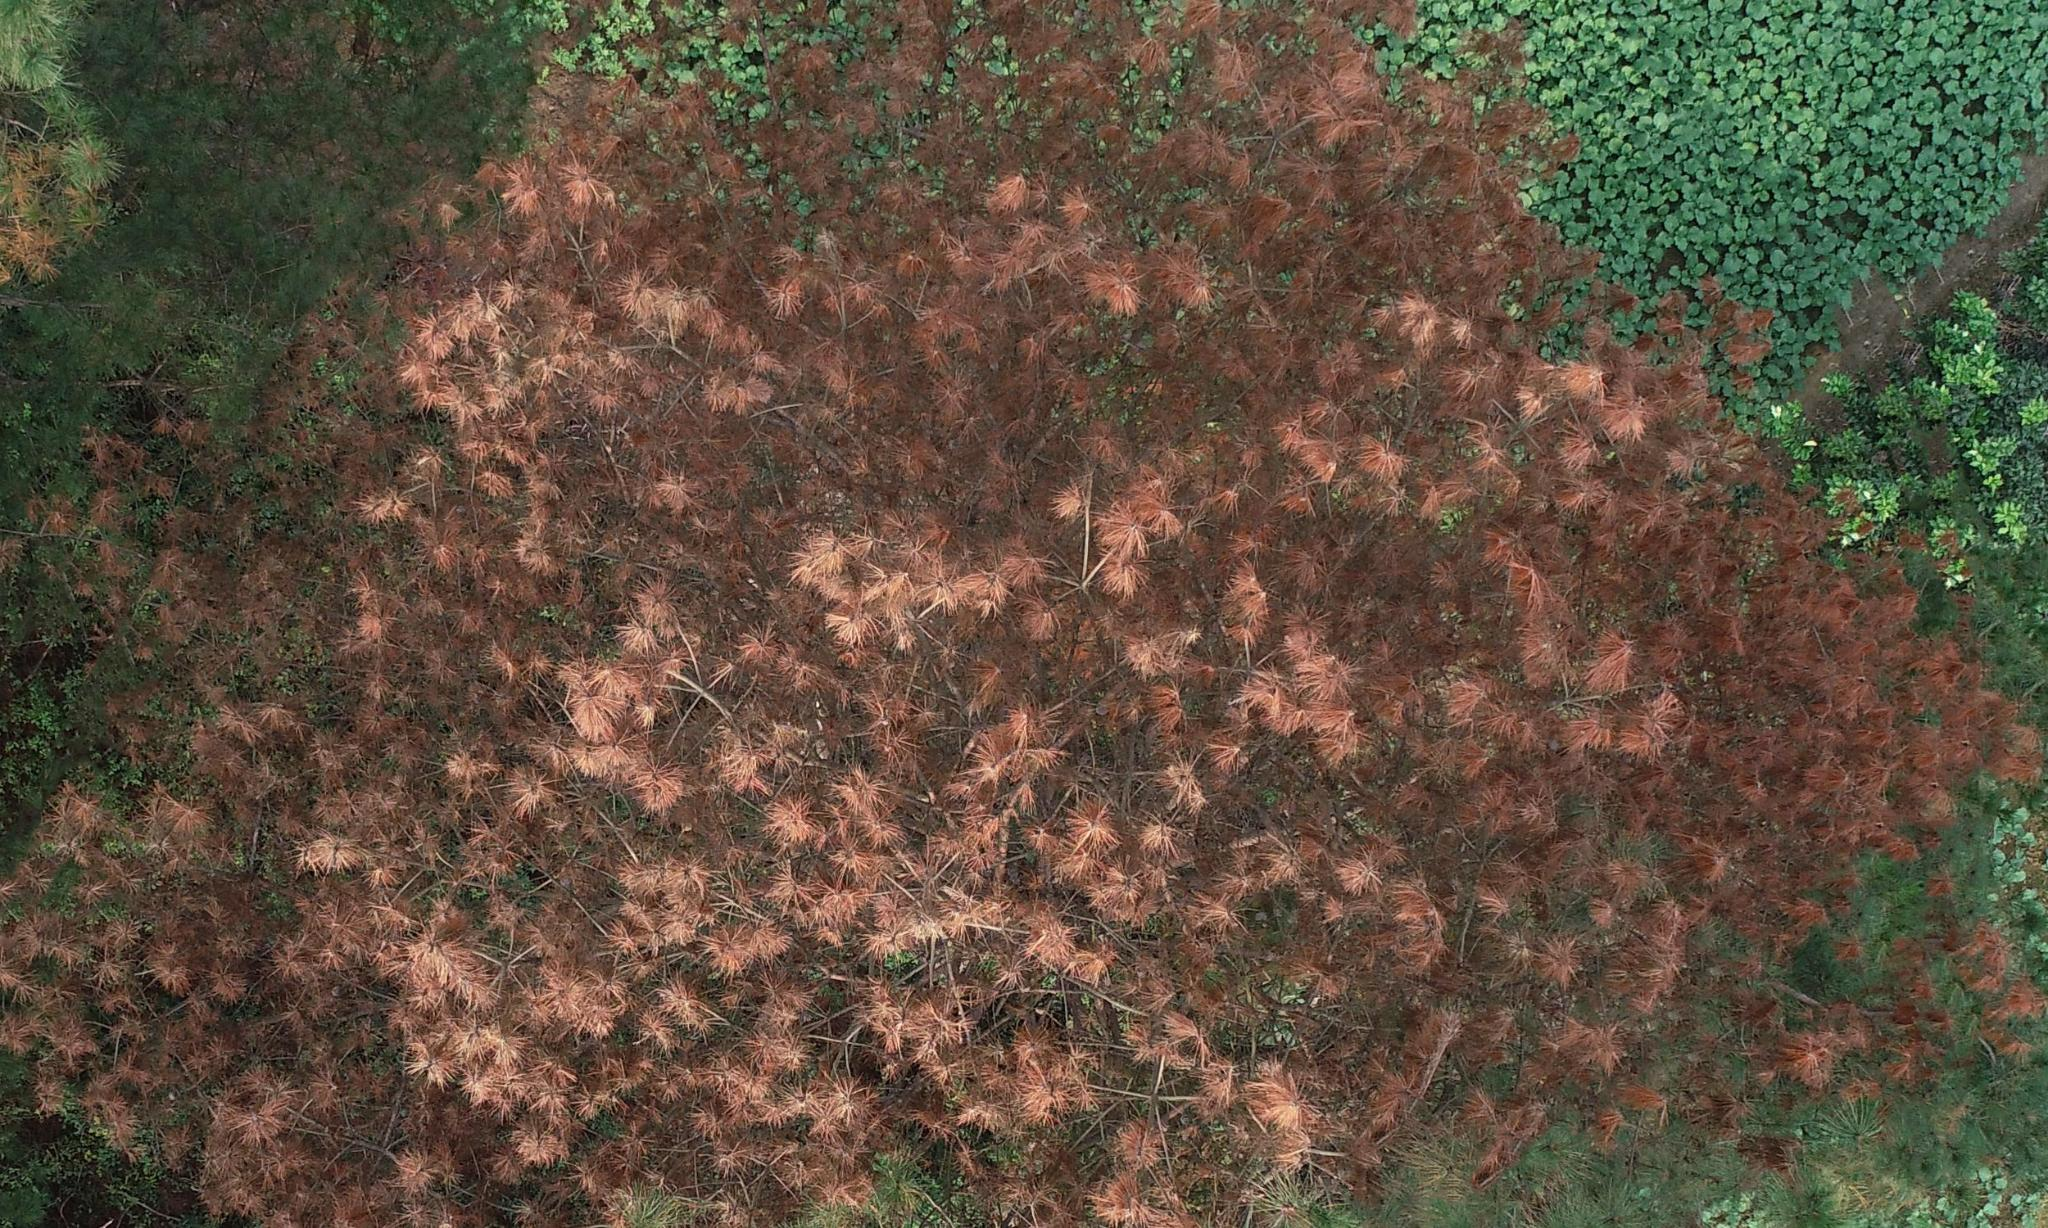heavy: (32, 39, 1992, 1209)
